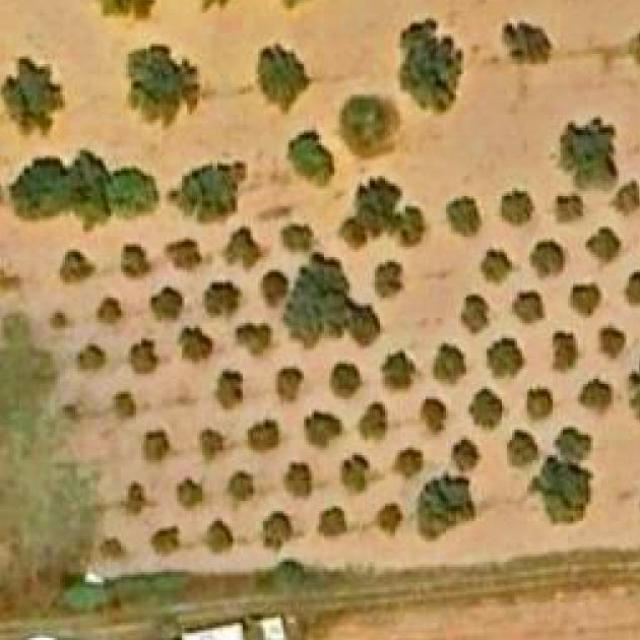Tree: (276, 254, 381, 343), (12, 153, 107, 230), (398, 18, 464, 115), (339, 176, 429, 247), (0, 59, 65, 138), (170, 160, 246, 222), (134, 46, 198, 108), (532, 460, 594, 524), (340, 94, 400, 158), (418, 476, 474, 540), (562, 118, 616, 184), (258, 44, 309, 108), (106, 168, 160, 220), (289, 130, 334, 186), (149, 286, 193, 329), (469, 387, 510, 433), (502, 23, 550, 62), (228, 224, 266, 272), (202, 280, 243, 324), (487, 336, 527, 380), (575, 377, 614, 422), (446, 196, 485, 240), (380, 349, 415, 392), (177, 325, 215, 364), (434, 343, 467, 387), (93, 0, 154, 23), (57, 250, 95, 285), (558, 425, 593, 463), (598, 323, 632, 362), (304, 409, 342, 443), (586, 227, 622, 262), (236, 321, 271, 357), (141, 428, 177, 463), (502, 188, 535, 226), (96, 295, 129, 333), (459, 293, 490, 333), (373, 260, 403, 301), (358, 402, 388, 443), (510, 291, 545, 326), (329, 362, 363, 397), (530, 237, 564, 272), (214, 369, 243, 409), (167, 240, 202, 273), (263, 511, 292, 550), (449, 435, 483, 468), (281, 221, 317, 252), (275, 364, 304, 402), (478, 247, 507, 285), (248, 418, 281, 451), (119, 245, 152, 278), (342, 453, 368, 494), (283, 463, 312, 499), (417, 397, 446, 433), (553, 331, 578, 372), (571, 282, 601, 316), (317, 506, 347, 539), (553, 191, 583, 224), (73, 343, 107, 372), (611, 180, 640, 214), (509, 430, 537, 465), (395, 445, 424, 478), (174, 478, 202, 512), (527, 384, 553, 420), (200, 430, 226, 465), (228, 470, 256, 501), (151, 526, 180, 555), (121, 481, 146, 514), (207, 521, 233, 552), (375, 503, 403, 531), (131, 341, 156, 372), (263, 272, 289, 301), (629, 356, 640, 424), (48, 308, 73, 333), (623, 272, 640, 307), (0, 269, 21, 289)
